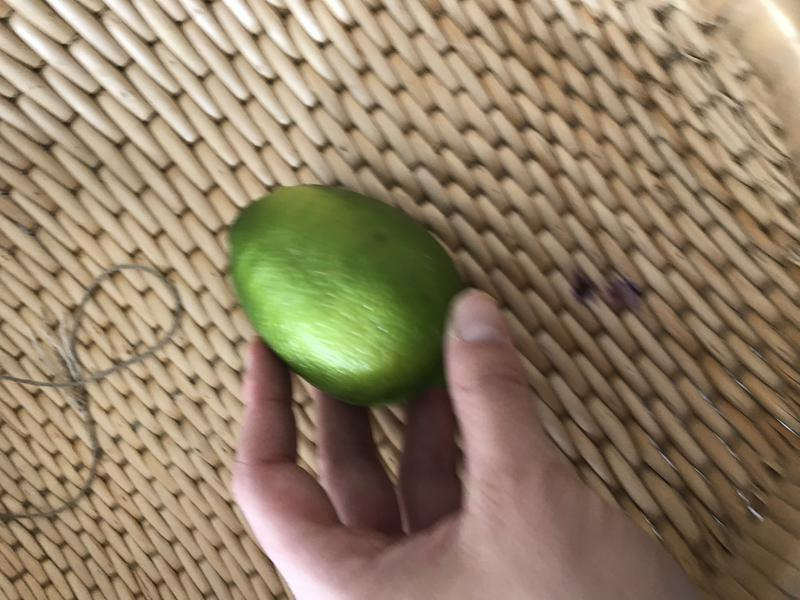lime: (222, 178, 479, 415)
